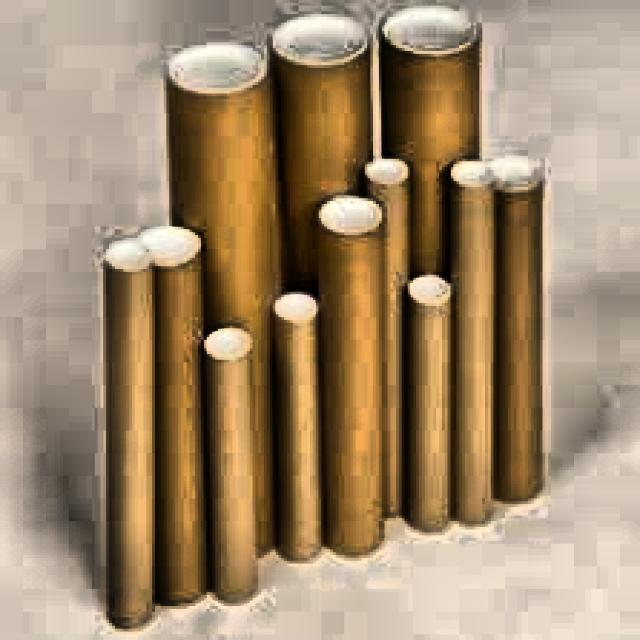cardboard: (96, 7, 551, 633)
